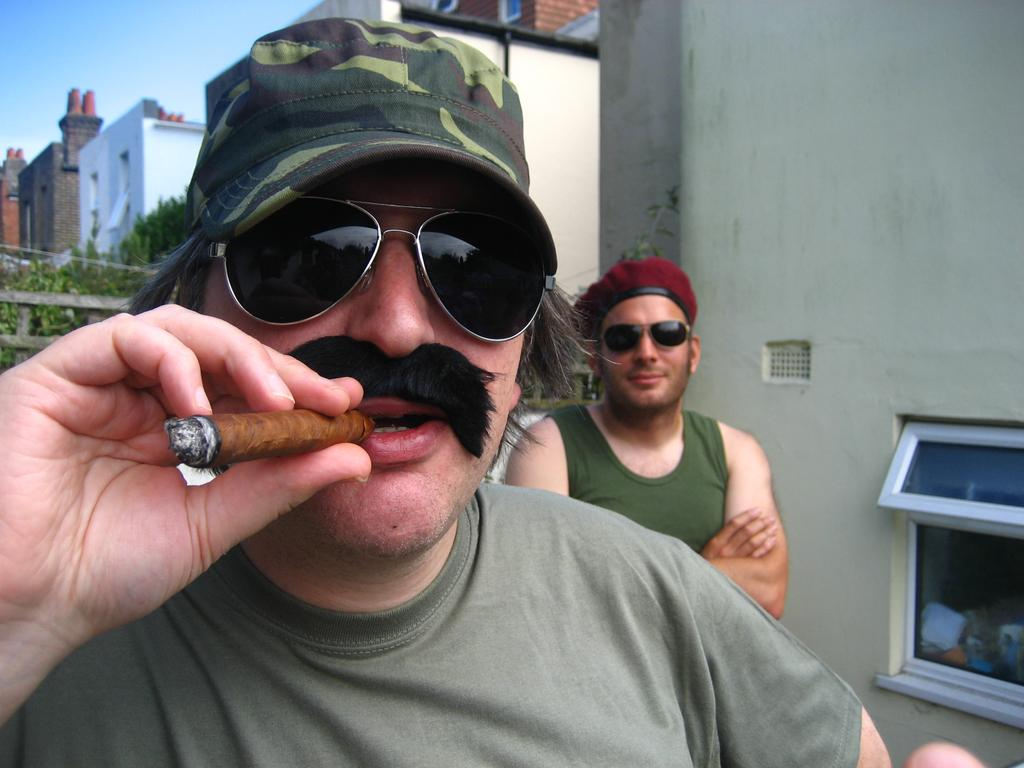Hat: (185, 15, 557, 278)
